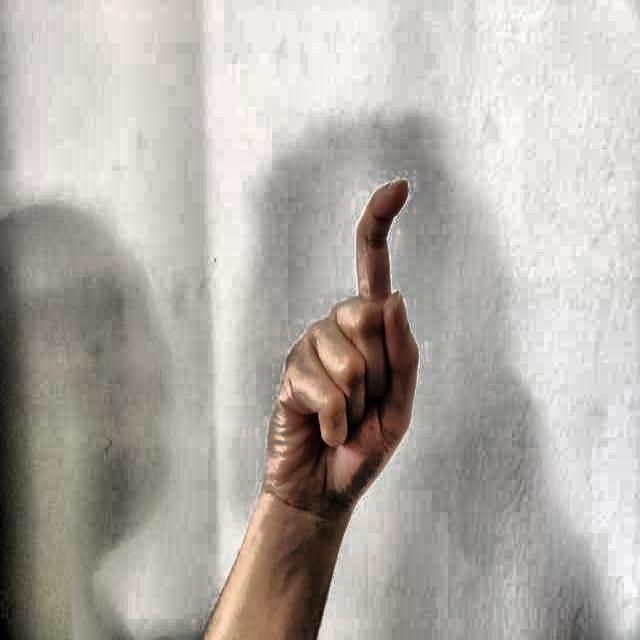E: (238, 164, 435, 521)
